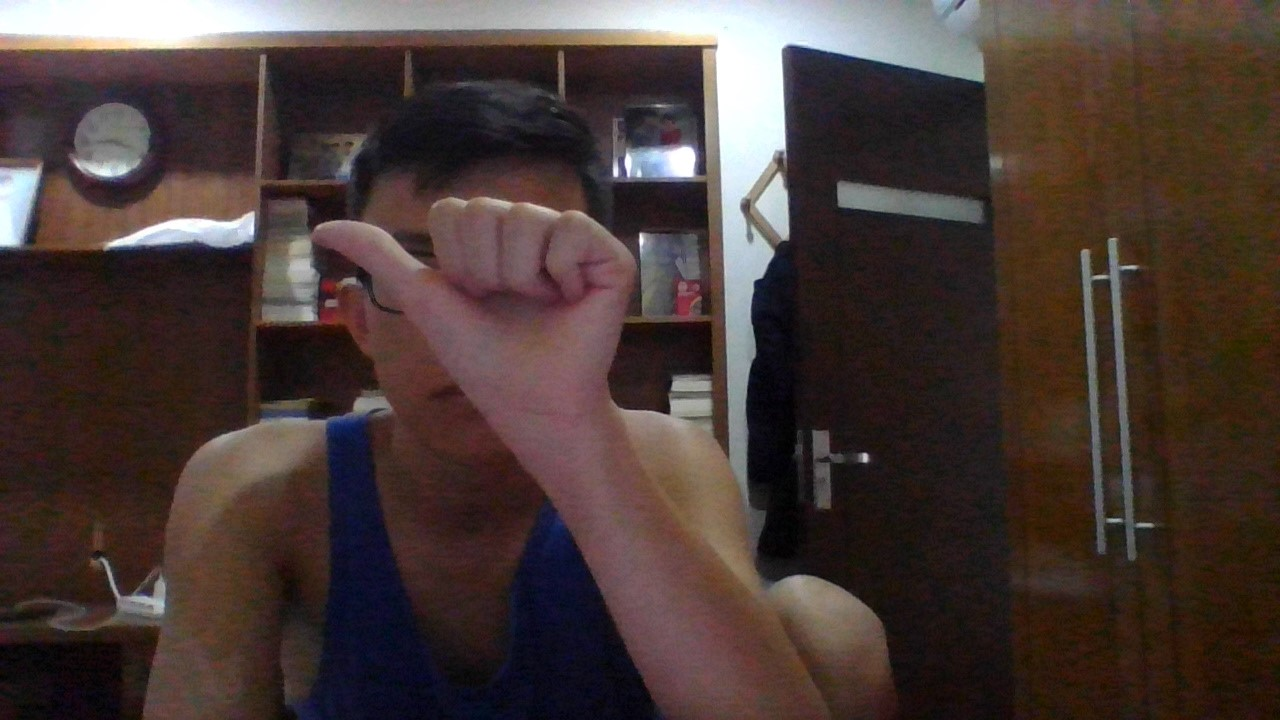right: (311, 196, 651, 397)
